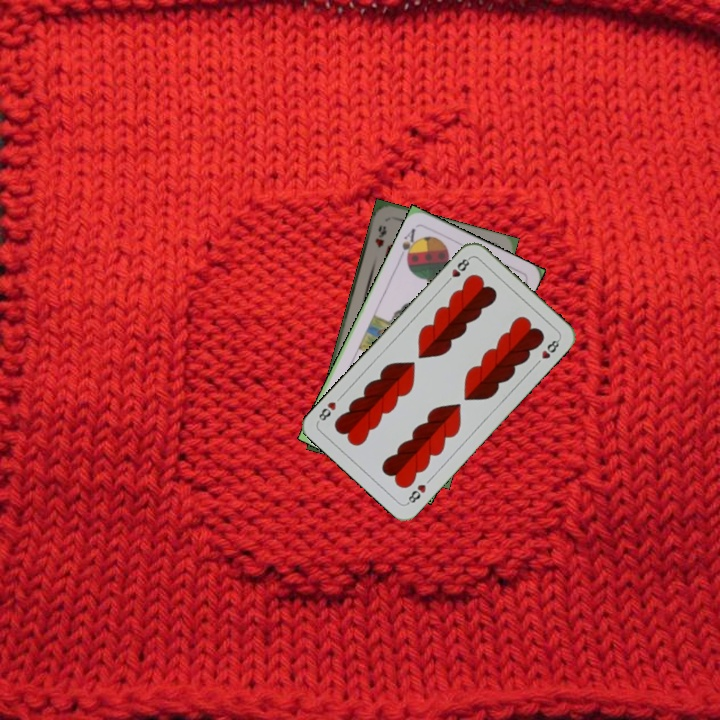H8: (442, 253, 473, 286), (403, 480, 429, 507)
H9: (371, 221, 389, 250)
SA: (395, 224, 421, 264)
